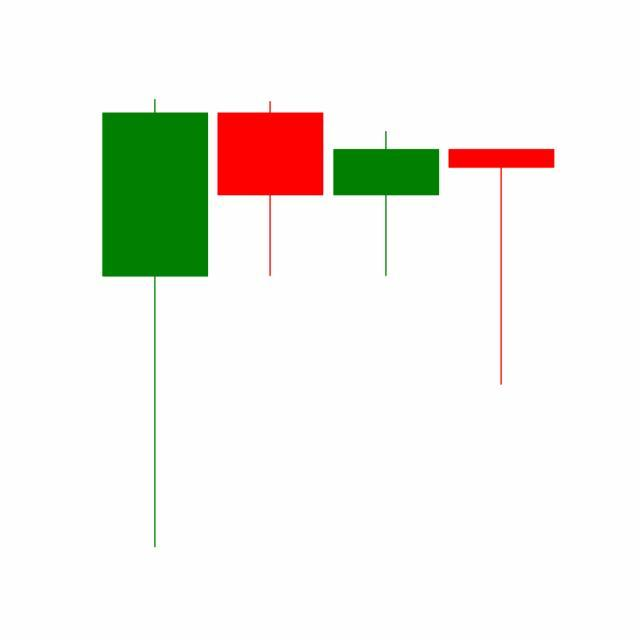Dragonfly Doji: (444, 146, 560, 388)
